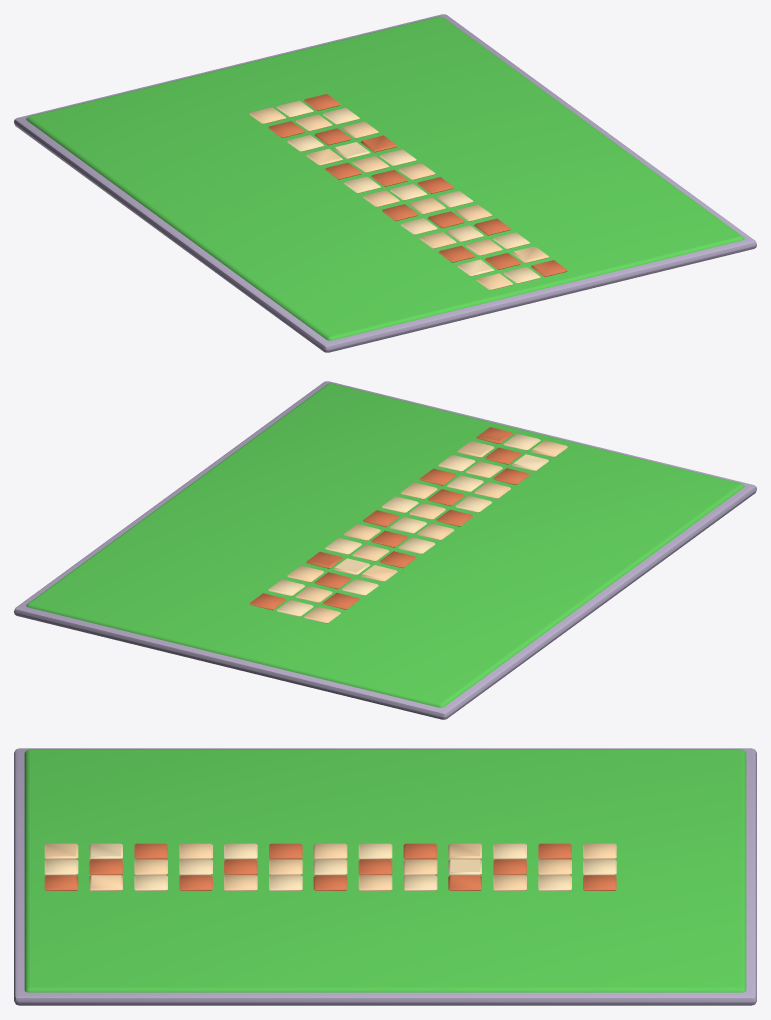
File: base_floor.obj
3 renders of one model, top to bottom at view 1: azimuth 30°, elevation 25°; view 2: azimuth 150°, elevation 25°; view 3: azimuth 270°, elevation 25°, orthographic. The views are drawn at different scales.
Visible parts, largest first — view 1: base_floor; view 2: base_floor; view 3: base_floor.
Boxes of the visible parts, bbox=[...] form: base_floor: bbox=[14, 14, 756, 352]; base_floor: bbox=[14, 381, 756, 719]; base_floor: bbox=[14, 748, 756, 1005].
Size of the model in its own units: 47.6 by 1.45 by 59.6.
Materials: 1 (1 with a texture image).
